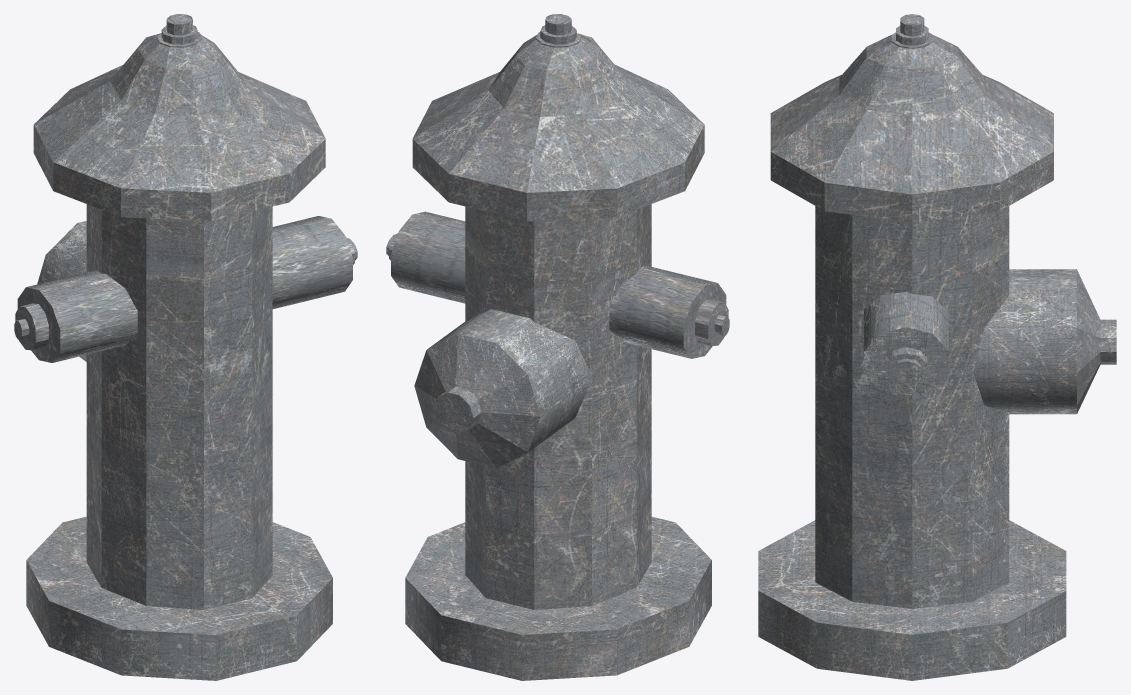
File: BLOCKYGON_FIREHYDREN.fbx
3 views of the same model, side by side, from view 1: azimuth 30°, elevation 25°; view 2: azimuth 150°, elevation 25°; view 3: azimuth 270°, elevation 25° (orthographic).
Parts seen in each view (by area): view 1: BLOCKYGON_FIREHYDREN; view 2: BLOCKYGON_FIREHYDREN; view 3: BLOCKYGON_FIREHYDREN.
Boxes of the visible parts, bbox=[...] form: BLOCKYGON_FIREHYDREN: bbox=[14, 14, 357, 680]; BLOCKYGON_FIREHYDREN: bbox=[386, 14, 729, 680]; BLOCKYGON_FIREHYDREN: bbox=[758, 14, 1116, 680].
Bounding box in the file's own units: 46.11 × 78.99 × 42.98.
Materials: 2 (2 with a texture image).
